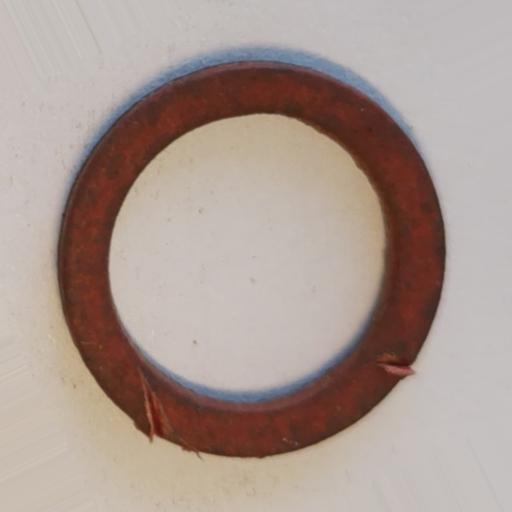defect: (135, 365, 186, 449), (374, 353, 414, 376)
